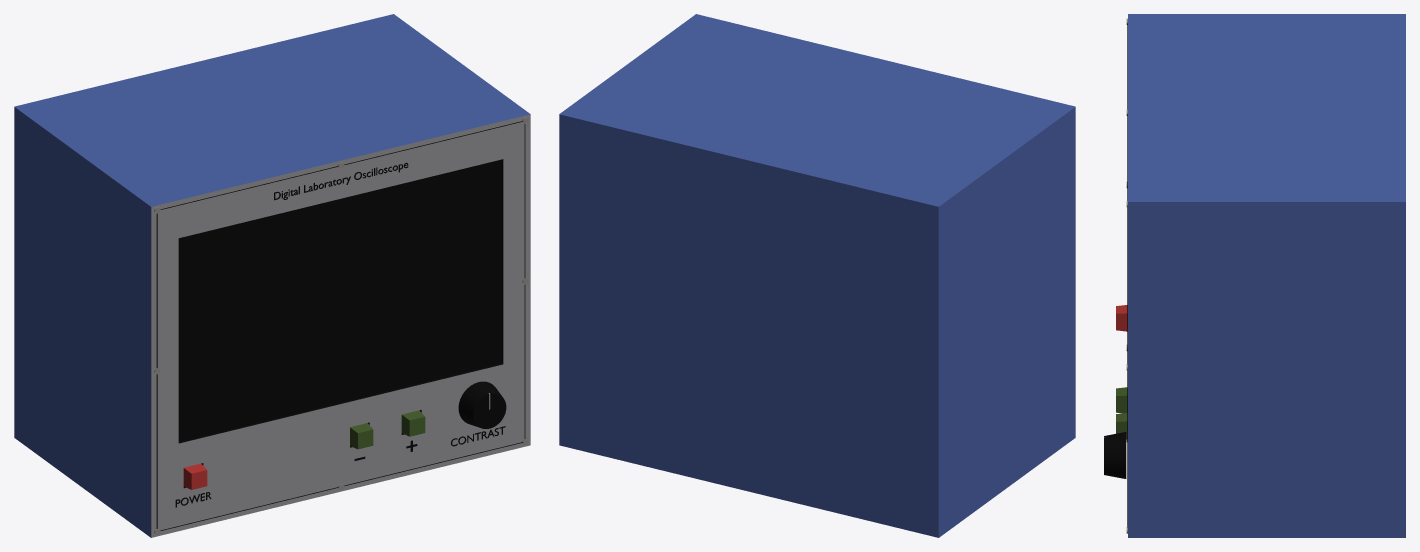
Rendered from oscilloscope.glb.
The picture shows the model from 3 angles, left to right: view 1: azimuth 30°, elevation 25°; view 2: azimuth 150°, elevation 25°; view 3: azimuth 270°, elevation 25°; orthographic projection.
Parts seen in each view (by area): view 1: oscil, contrast; view 2: oscil; view 3: oscil, contrast.
Boxes of the visible parts, x1,y1,x2,y2 form: oscil: (14,14,530,537); contrast: (458,381,506,428); oscil: (559,14,1075,537); oscil: (1126,14,1405,537); contrast: (1104,432,1126,478).
Size of the model in its own units: 240 by 200 by 163.
